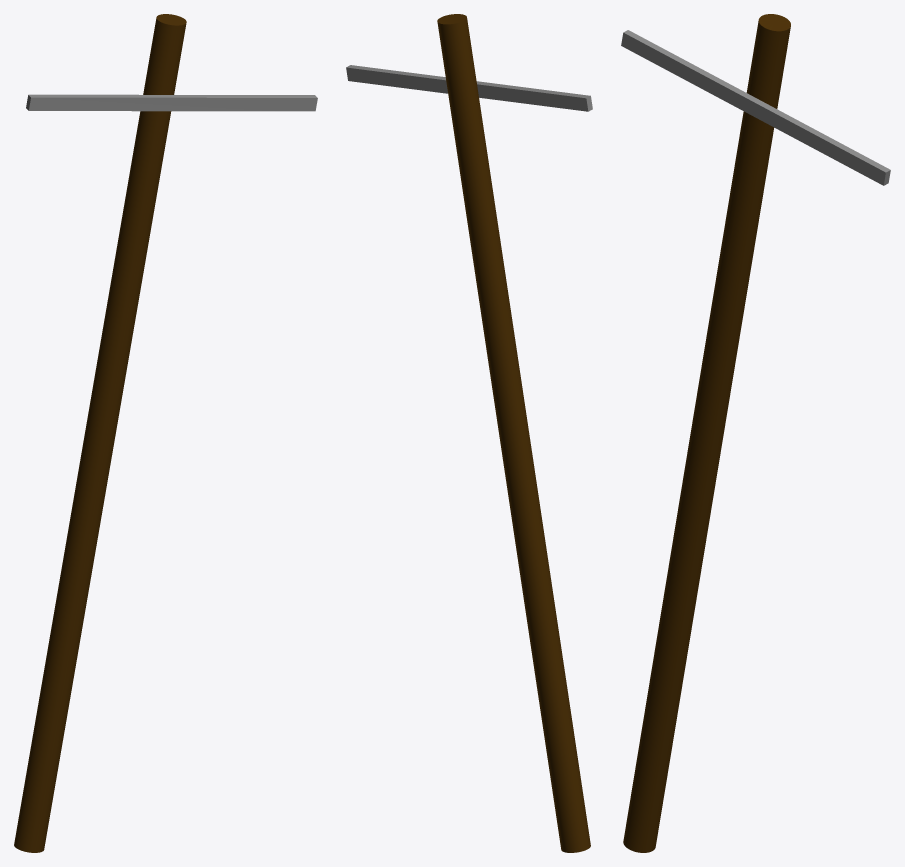
The model's file is power_line_06.glb.
The picture shows the model from 3 angles, left to right: view 1: azimuth 30°, elevation 25°; view 2: azimuth 150°, elevation 25°; view 3: azimuth 330°, elevation 25°; orthographic projection. The views are drawn at different scales.
Parts seen in each view (by area): view 1: PowerLine06; view 2: PowerLine06; view 3: PowerLine06.
Boxes of the visible parts, box(x1,y1,x2,y2) form: PowerLine06: box(14, 14, 317, 852); PowerLine06: box(346, 14, 592, 852); PowerLine06: box(621, 14, 890, 852).
Bounding box in the file's own units: 7.02 × 19.82 × 1.68.
